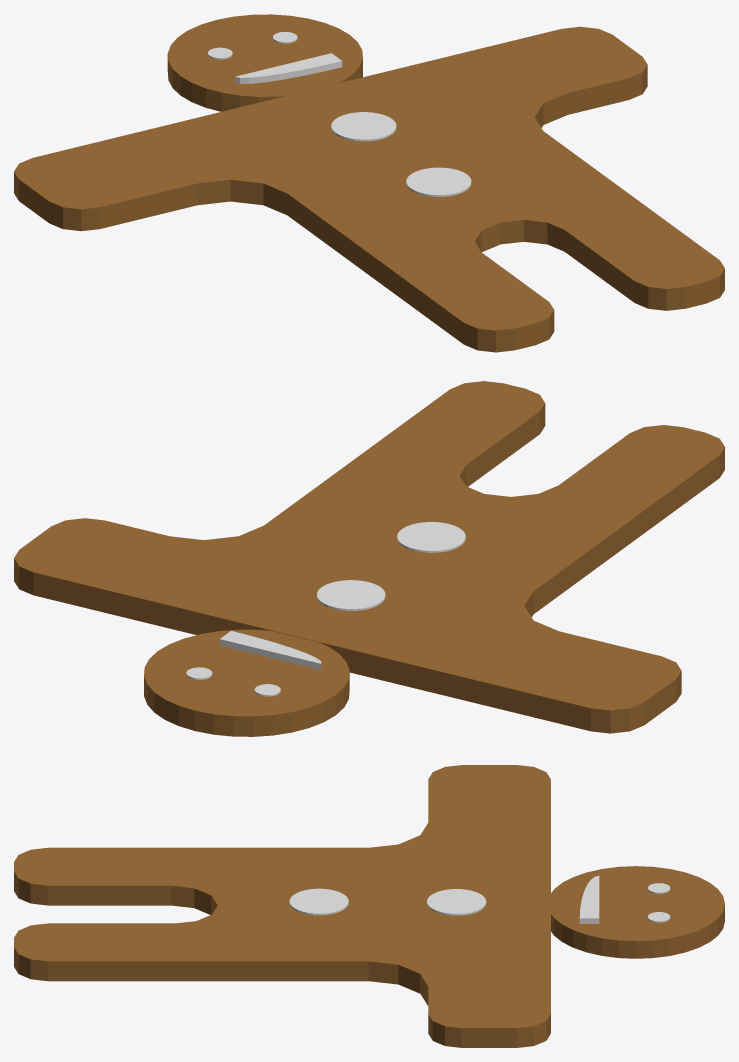
The model's file is Cookie3.fbx.
The picture shows the model from 3 angles, top to bottom: view 1: azimuth 30°, elevation 25°; view 2: azimuth 150°, elevation 25°; view 3: azimuth 270°, elevation 25°; orthographic projection. The views are drawn at different scales.
Visible parts, largest first — view 1: 立方体.001, 円柱, 円柱.003, 円柱.004, 立方体; view 2: 立方体.001, 円柱, 円柱.004, 円柱.003, 立方体; view 3: 立方体.001, 円柱, 円柱.004, 円柱.003, 立方体.
Part boxes in pixels (x1=…): 立方体.001: x1=14, y1=26, x2=724, y2=352; 円柱: x1=167, y1=14, x2=362, y2=111; 円柱.003: x1=331, y1=112, x2=396, y2=141; 円柱.004: x1=406, y1=167, x2=471, y2=196; 立方体: x1=235, y1=53, x2=342, y2=83; 立方体.001: x1=14, y1=381, x2=724, y2=733; 円柱: x1=144, y1=629, x2=349, y2=736; 円柱.004: x1=397, y1=522, x2=465, y2=552; 円柱.003: x1=317, y1=580, x2=385, y2=610; 立方体: x1=219, y1=631, x2=321, y2=670; 立方体.001: x1=14, y1=765, x2=550, y2=1047; 円柱: x1=551, y1=866, x2=724, y2=958; 円柱.004: x1=289, y1=888, x2=348, y2=915; 円柱.003: x1=427, y1=889, x2=486, y2=915; 立方体: x1=579, y1=875, x2=599, y2=923.
Bounding box in the file's own units: 91.08 × 4.06 × 104.
